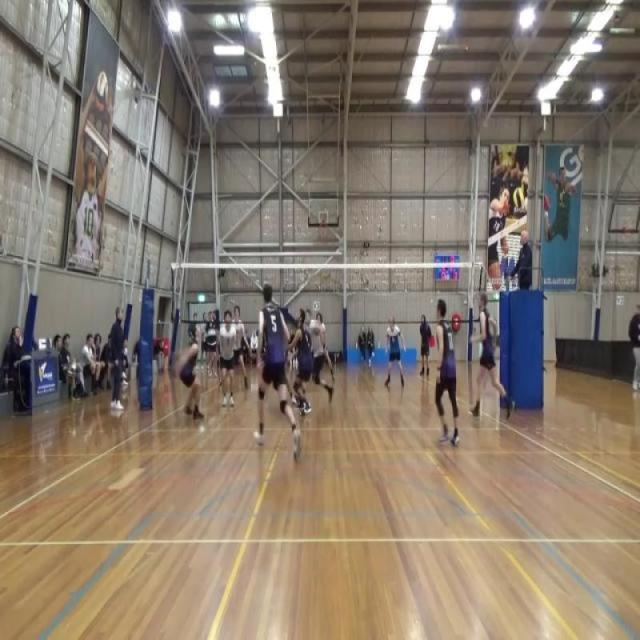volleyball: (95, 70, 108, 117), (512, 187, 526, 207)
